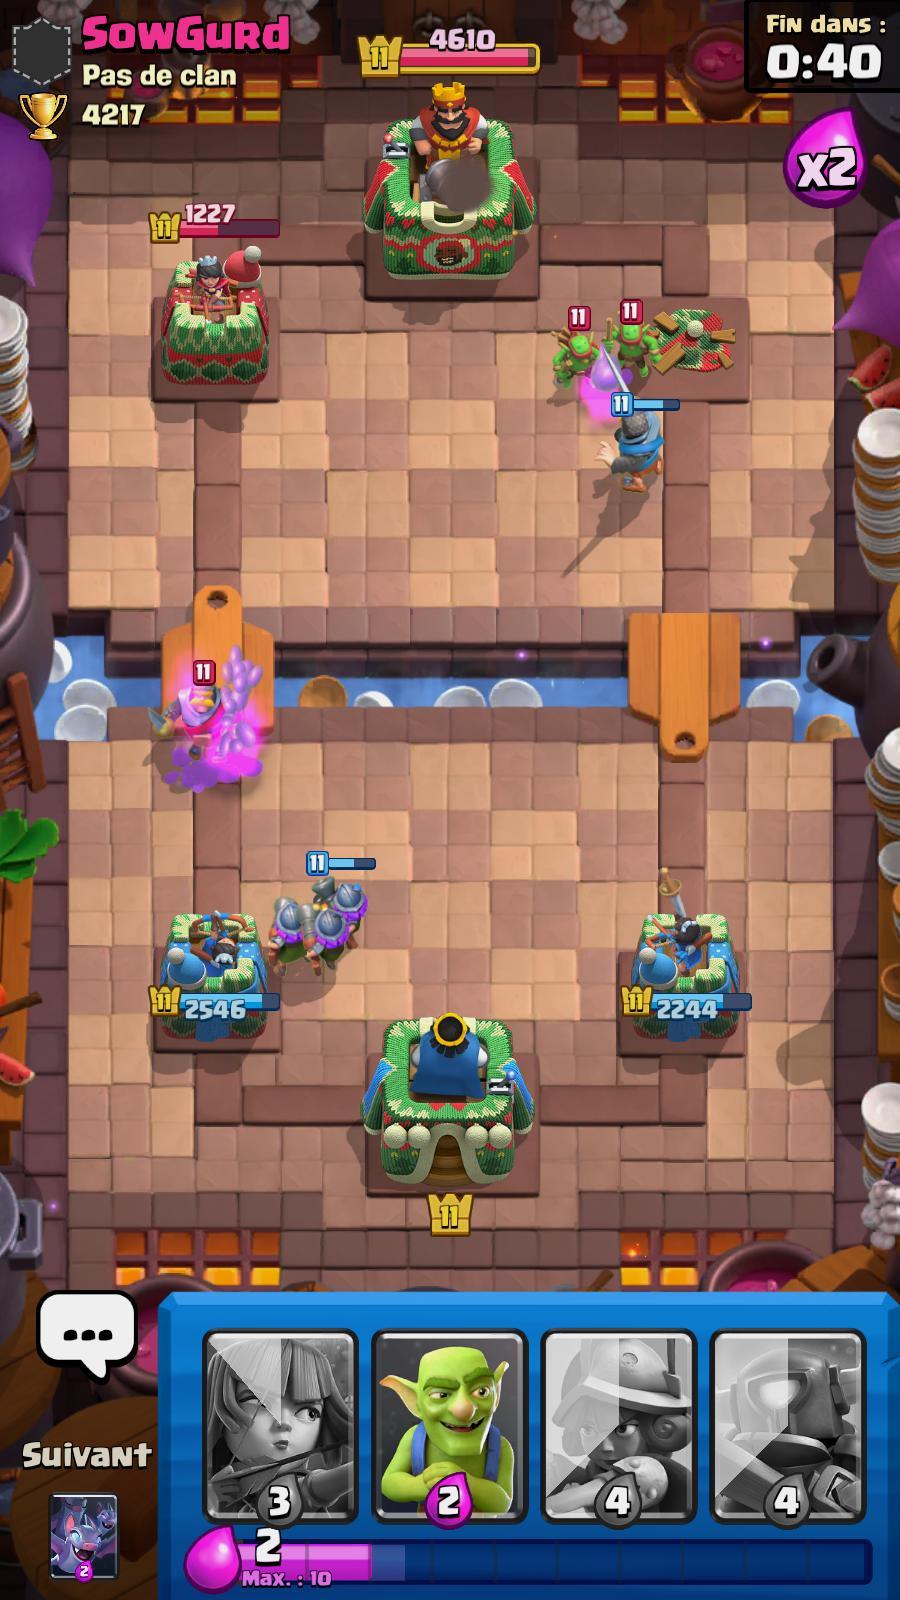chevalier: (143, 660, 236, 755), (604, 393, 670, 500)
gobelin_lances: (600, 291, 662, 379), (552, 303, 597, 382)
mousquetaire: (309, 851, 378, 935), (262, 891, 311, 979), (301, 896, 351, 976)
